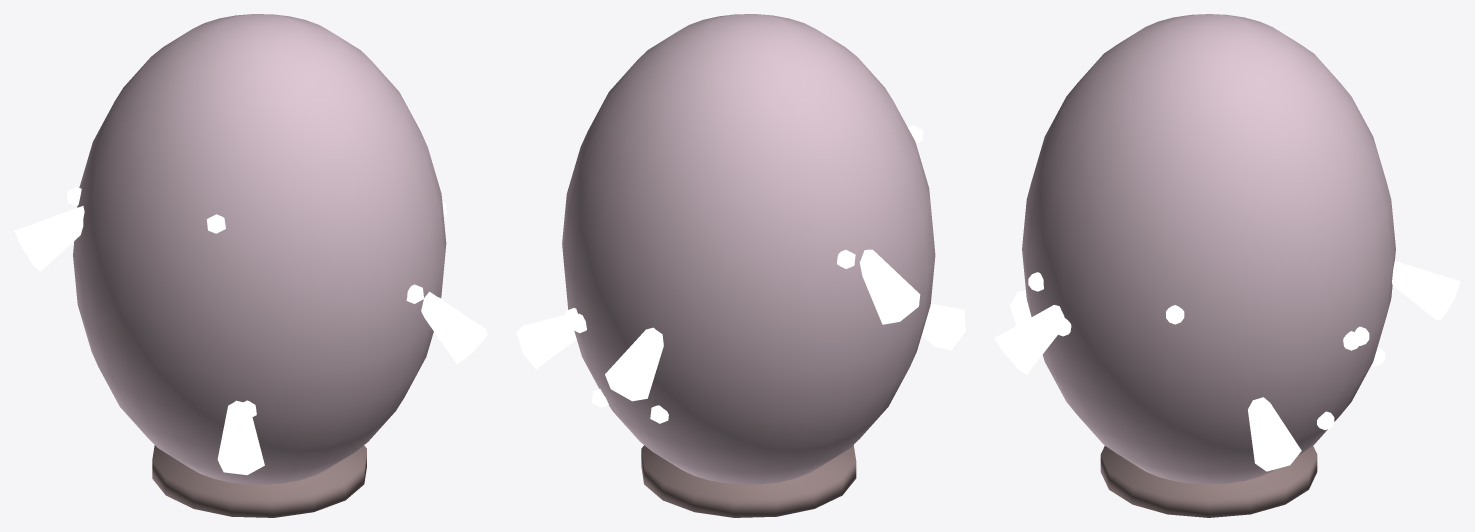
The model's file is egg_blossom_09.glb.
The picture shows the model from 3 angles, left to right: view 1: azimuth 30°, elevation 25°; view 2: azimuth 150°, elevation 25°; view 3: azimuth 270°, elevation 25°; orthographic projection.
Parts seen in each view (by area): view 1: ball; view 2: ball; view 3: ball.
Part boxes in pixels (x1,y1,x2,y2): ball: [14, 14, 487, 517]; ball: [516, 14, 965, 517]; ball: [994, 14, 1460, 517].
Bounding box in the file's own units: 0.9445 × 1 × 0.9475.
